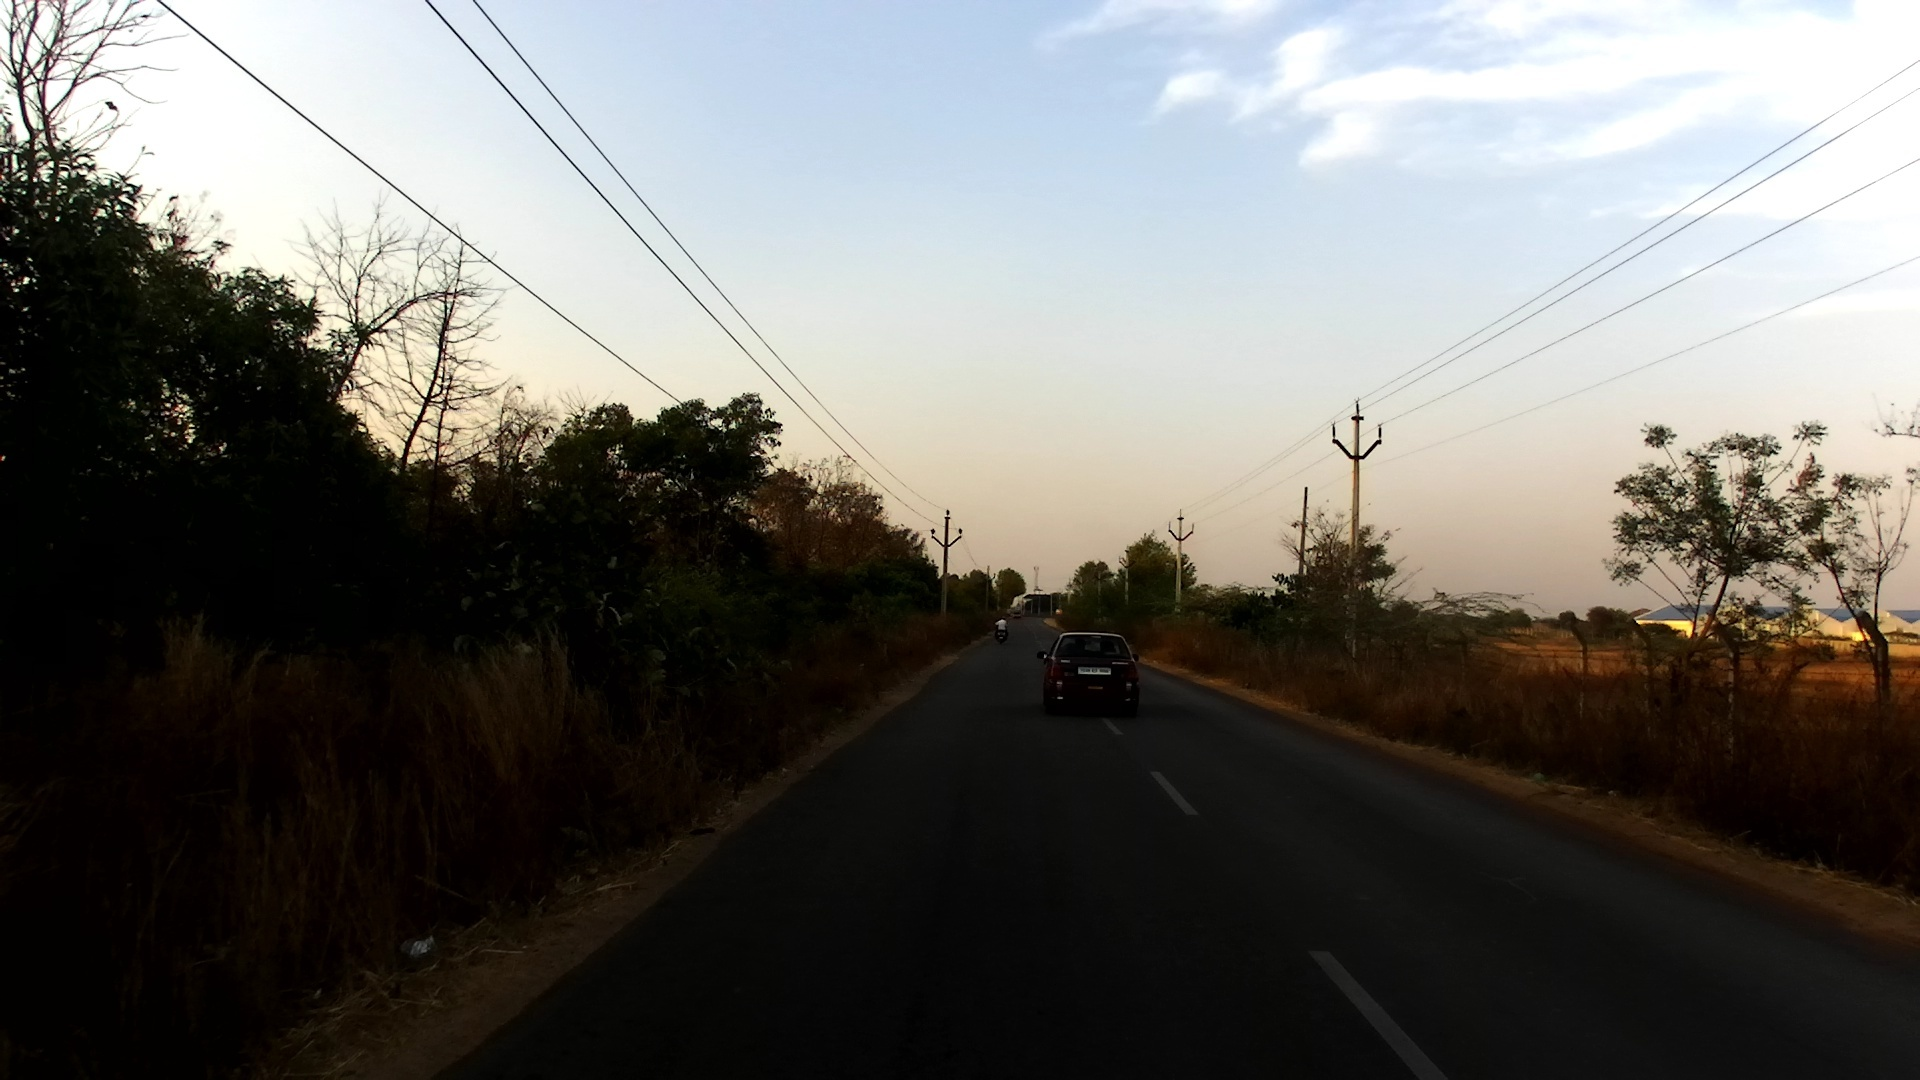car: (1039, 631, 1142, 720), (1012, 608, 1022, 618)
motorcycle: (994, 621, 1008, 648)
rider: (991, 615, 1010, 642)
